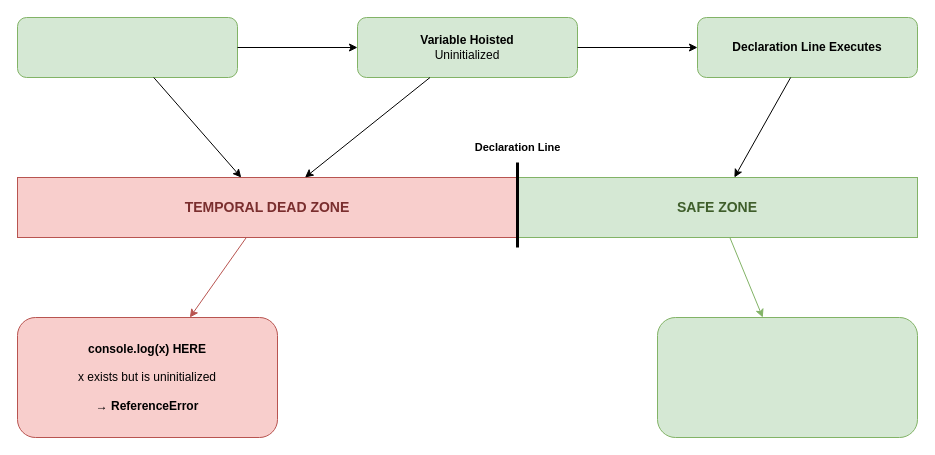
Image size: 935x455. Some labels were removed from this diagram. Here are the shapes that lost their labels. From the top down, the centre of each, then its label:
At (127,47): "Scope Begins (file / block / function)".
At (787,377): "console.log(x) HERE x is initialized → Prints the value".
